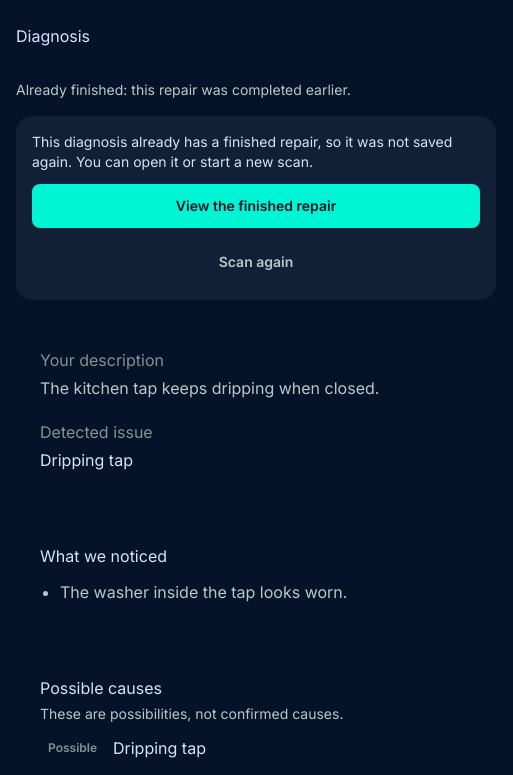
Scenario: a diagnosis whose repair is already finished › "View the finished repair" opens it from the database (owner-scoped)
Step 1. Click the link "View the finished repair" → coordinates (256, 206), box [32,184,480,228]
(page scrolled)
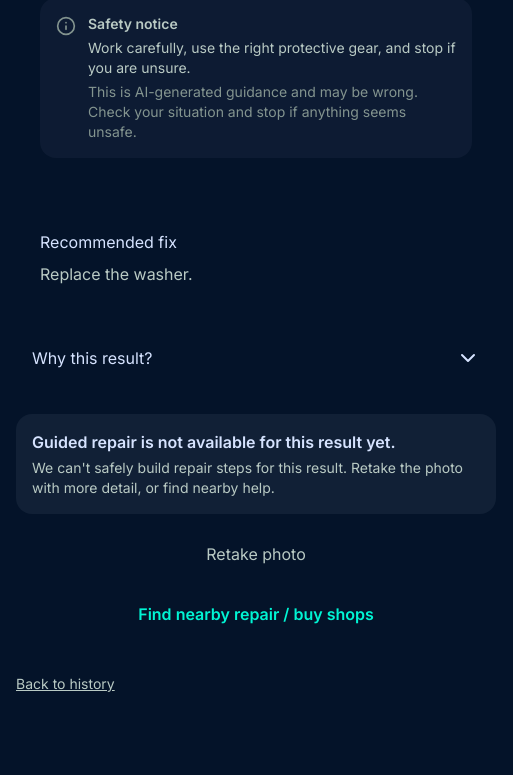
Expected: the link "Back to history" is shown, [16,675,115,692]
